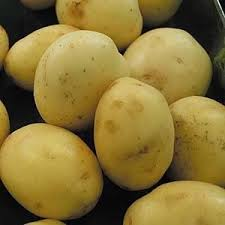potato: (1, 121, 106, 220), (92, 73, 175, 186)
